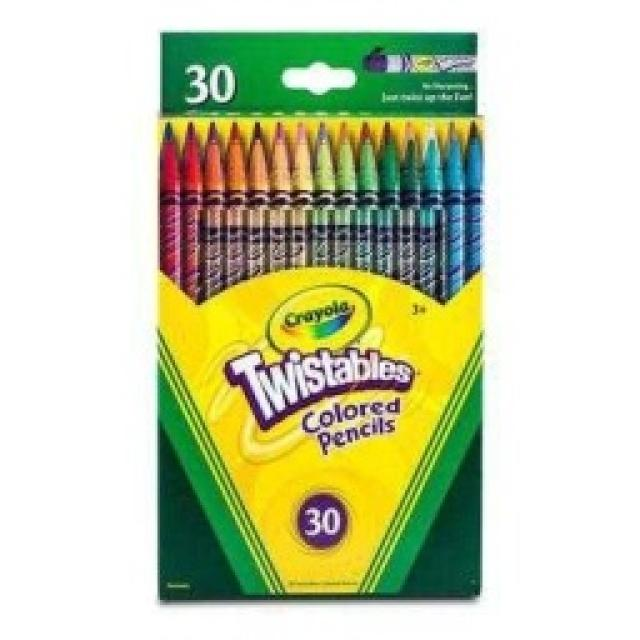pencil: (152, 28, 488, 602)
